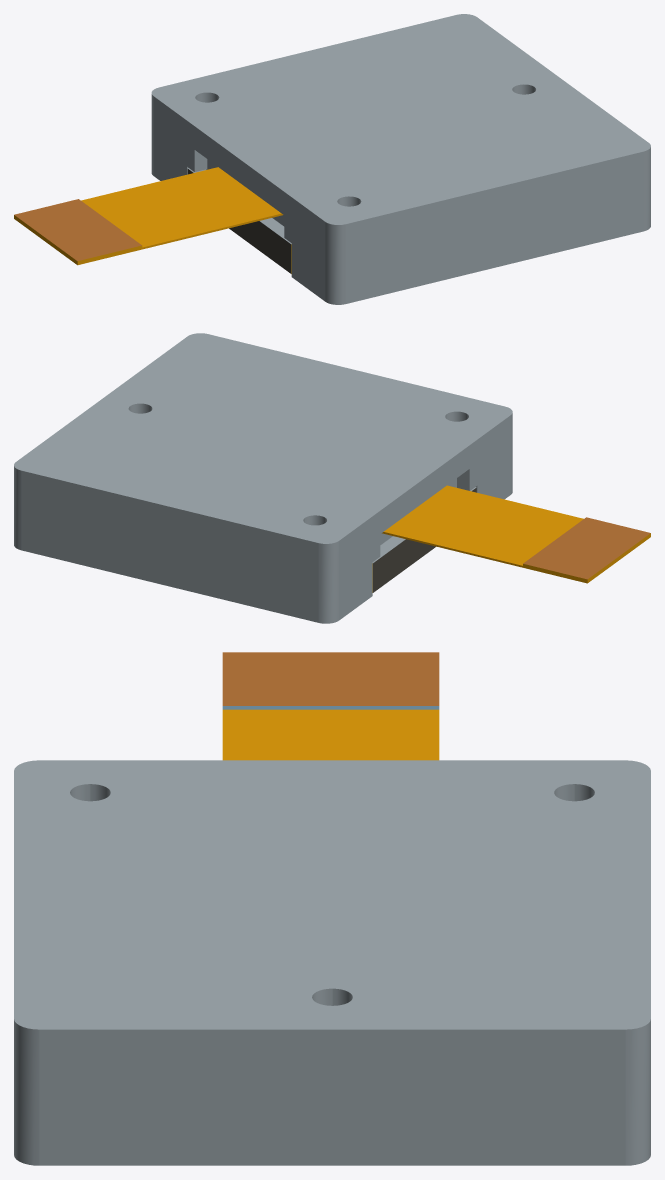
Rendered from sfe-im23tcb.glb.
3 renders of one model, top to bottom at view 1: azimuth 30°, elevation 25°; view 2: azimuth 150°, elevation 25°; view 3: azimuth 270°, elevation 25°, orthographic. The views are drawn at different scales.
Visible parts, largest first — view 1: 0.3333333333333333_0.4166666666666667_0.4166666666666667_0, 0.75_0.3333333333333333_0_0, 0.5_0.16666666666666666_0_0, 0.08333333333333333_0.08333333333333333_0.08333333333333333_; view 2: 0.3333333333333333_0.4166666666666667_0.4166666666666667_0, 0.75_0.3333333333333333_0_0, 0.5_0.16666666666666666_0_0, 0.08333333333333333_0.08333333333333333_0.08333333333333333_; view 3: 0.3333333333333333_0.4166666666666667_0.4166666666666667_0, 0.5_0.16666666666666666_0_0, 0.75_0.3333333333333333_0_0, 0.3333333333333333_0.5833333333333334_0.8333333333333334_0.
Boxes of the visible parts, bbox=[...] form: 0.3333333333333333_0.4166666666666667_0.4166666666666667_0: bbox=[151, 14, 650, 304]; 0.75_0.3333333333333333_0_0: bbox=[14, 167, 283, 265]; 0.5_0.16666666666666666_0_0: bbox=[14, 199, 141, 261]; 0.08333333333333333_0.08333333333333333_0.08333333333333333_: bbox=[187, 169, 291, 273]; 0.3333333333333333_0.4166666666666667_0.4166666666666667_0: bbox=[14, 333, 512, 623]; 0.75_0.3333333333333333_0_0: bbox=[382, 485, 650, 583]; 0.5_0.16666666666666666_0_0: bbox=[523, 517, 650, 579]; 0.08333333333333333_0.08333333333333333_0.08333333333333333_: bbox=[373, 488, 476, 592]; 0.3333333333333333_0.4166666666666667_0.4166666666666667_0: bbox=[14, 760, 650, 1165]; 0.5_0.16666666666666666_0_0: bbox=[222, 652, 439, 705]; 0.75_0.3333333333333333_0_0: bbox=[222, 709, 439, 760]; 0.3333333333333333_0.5833333333333334_0.8333333333333334_0: bbox=[222, 706, 439, 709].
Bounding box in the file's own units: 4 × 0.5899 × 2.5.
